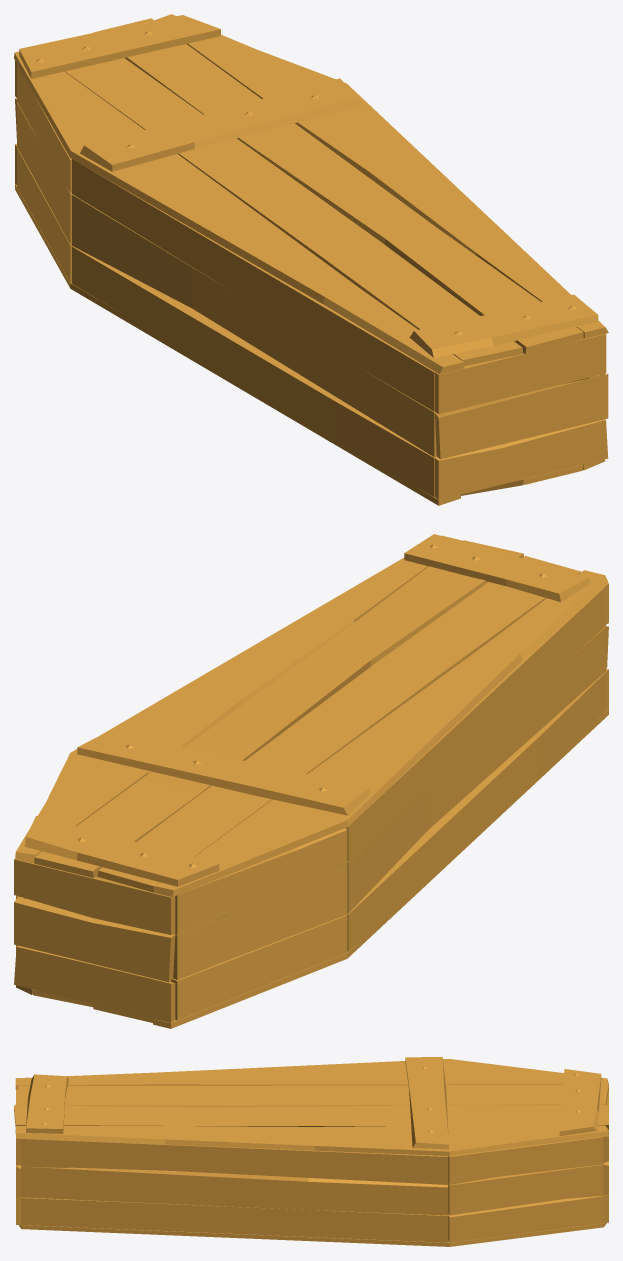
Rendered from newoldcoffin.fbx.
The picture shows the model from 3 angles, top to bottom: view 1: azimuth 30°, elevation 25°; view 2: azimuth 150°, elevation 25°; view 3: azimuth 270°, elevation 25°; orthographic projection. The views are drawn at different scales.
Parts seen in each view (by area): view 1: coffin-old-cover, coffin-old-base; view 2: coffin-old-cover, coffin-old-base; view 3: coffin-old-base, coffin-old-cover.
Part boxes in pixels (<box>): coffin-old-cover: <box>14,14,608,374</box>; coffin-old-base: <box>15,60,608,505</box>; coffin-old-cover: <box>15,534,608,896</box>; coffin-old-base: <box>14,583,608,1028</box>; coffin-old-base: <box>16,1084,608,1246</box>; coffin-old-cover: <box>14,1057,608,1155</box>.
Size of what is drawn, in the model's own units: 73.51 by 37.27 by 198.
